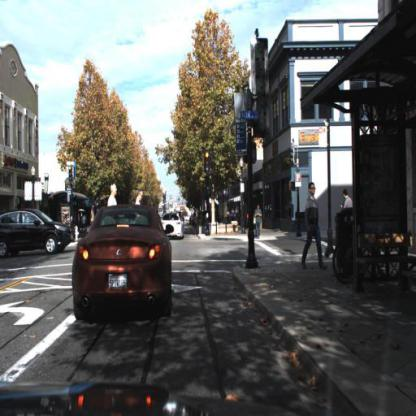car: (72, 202, 174, 322), (1, 208, 75, 257), (159, 210, 184, 250)
pedestrian: (300, 181, 328, 270), (106, 179, 124, 221), (134, 182, 150, 210), (254, 202, 264, 240), (341, 189, 355, 213), (255, 204, 263, 240)
trafficLight-Red: (204, 149, 212, 172), (69, 164, 74, 180)
